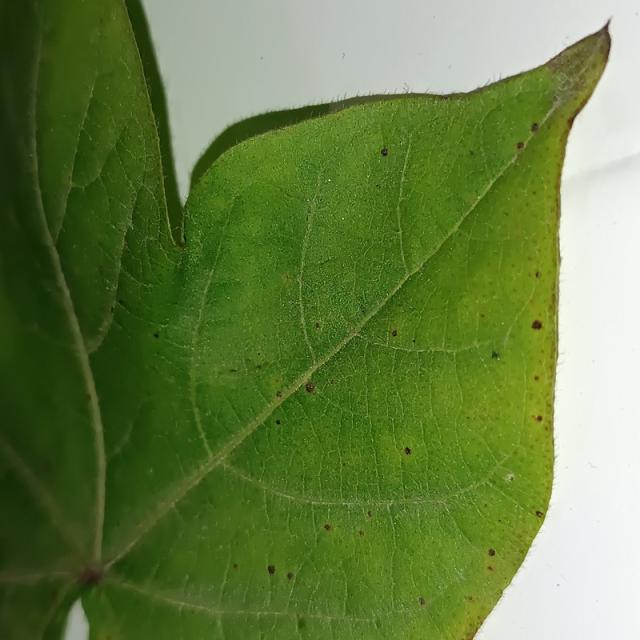Bacterial_Blight: (58, 567, 107, 628), (260, 560, 285, 583), (526, 310, 546, 335), (79, 567, 103, 587), (378, 138, 397, 161), (387, 319, 405, 343), (398, 438, 418, 454), (303, 377, 318, 397), (297, 617, 307, 631), (50, 590, 59, 603), (359, 305, 368, 316), (551, 292, 557, 307), (487, 548, 496, 557), (491, 350, 500, 359), (505, 473, 514, 482), (380, 147, 388, 157), (531, 122, 539, 132), (440, 95, 450, 102), (516, 141, 524, 149), (118, 299, 126, 307), (535, 511, 543, 518), (418, 597, 425, 605), (536, 415, 543, 422), (324, 524, 331, 531), (487, 565, 494, 572), (283, 274, 290, 281), (465, 596, 473, 602), (229, 368, 238, 373), (276, 391, 282, 398), (469, 149, 475, 156), (315, 322, 320, 330), (358, 530, 364, 536), (153, 333, 159, 339), (275, 419, 281, 425), (367, 510, 372, 517), (535, 271, 540, 278), (110, 306, 115, 313), (534, 375, 539, 381), (233, 563, 238, 569), (256, 364, 262, 369), (329, 379, 334, 385), (375, 184, 381, 189), (318, 197, 323, 203), (480, 313, 485, 318), (412, 338, 416, 343), (342, 462, 346, 467)
Cotton: (0, 0, 609, 639)
